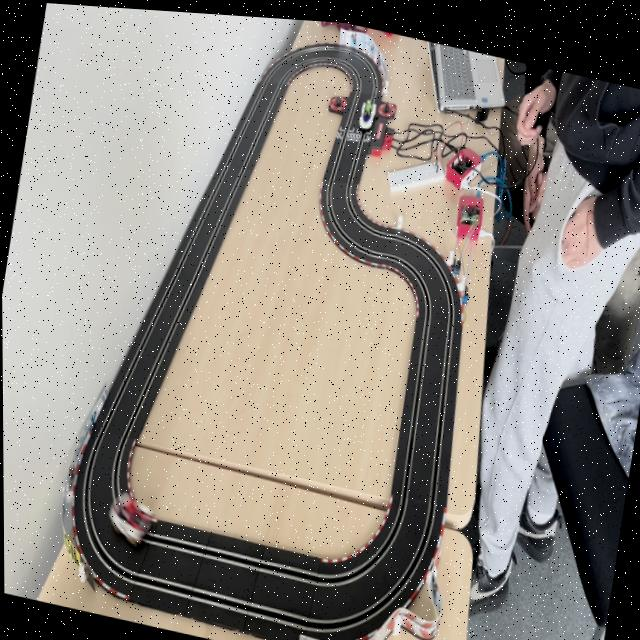mario: (100, 484, 162, 551)
yoshi: (357, 92, 377, 127)
